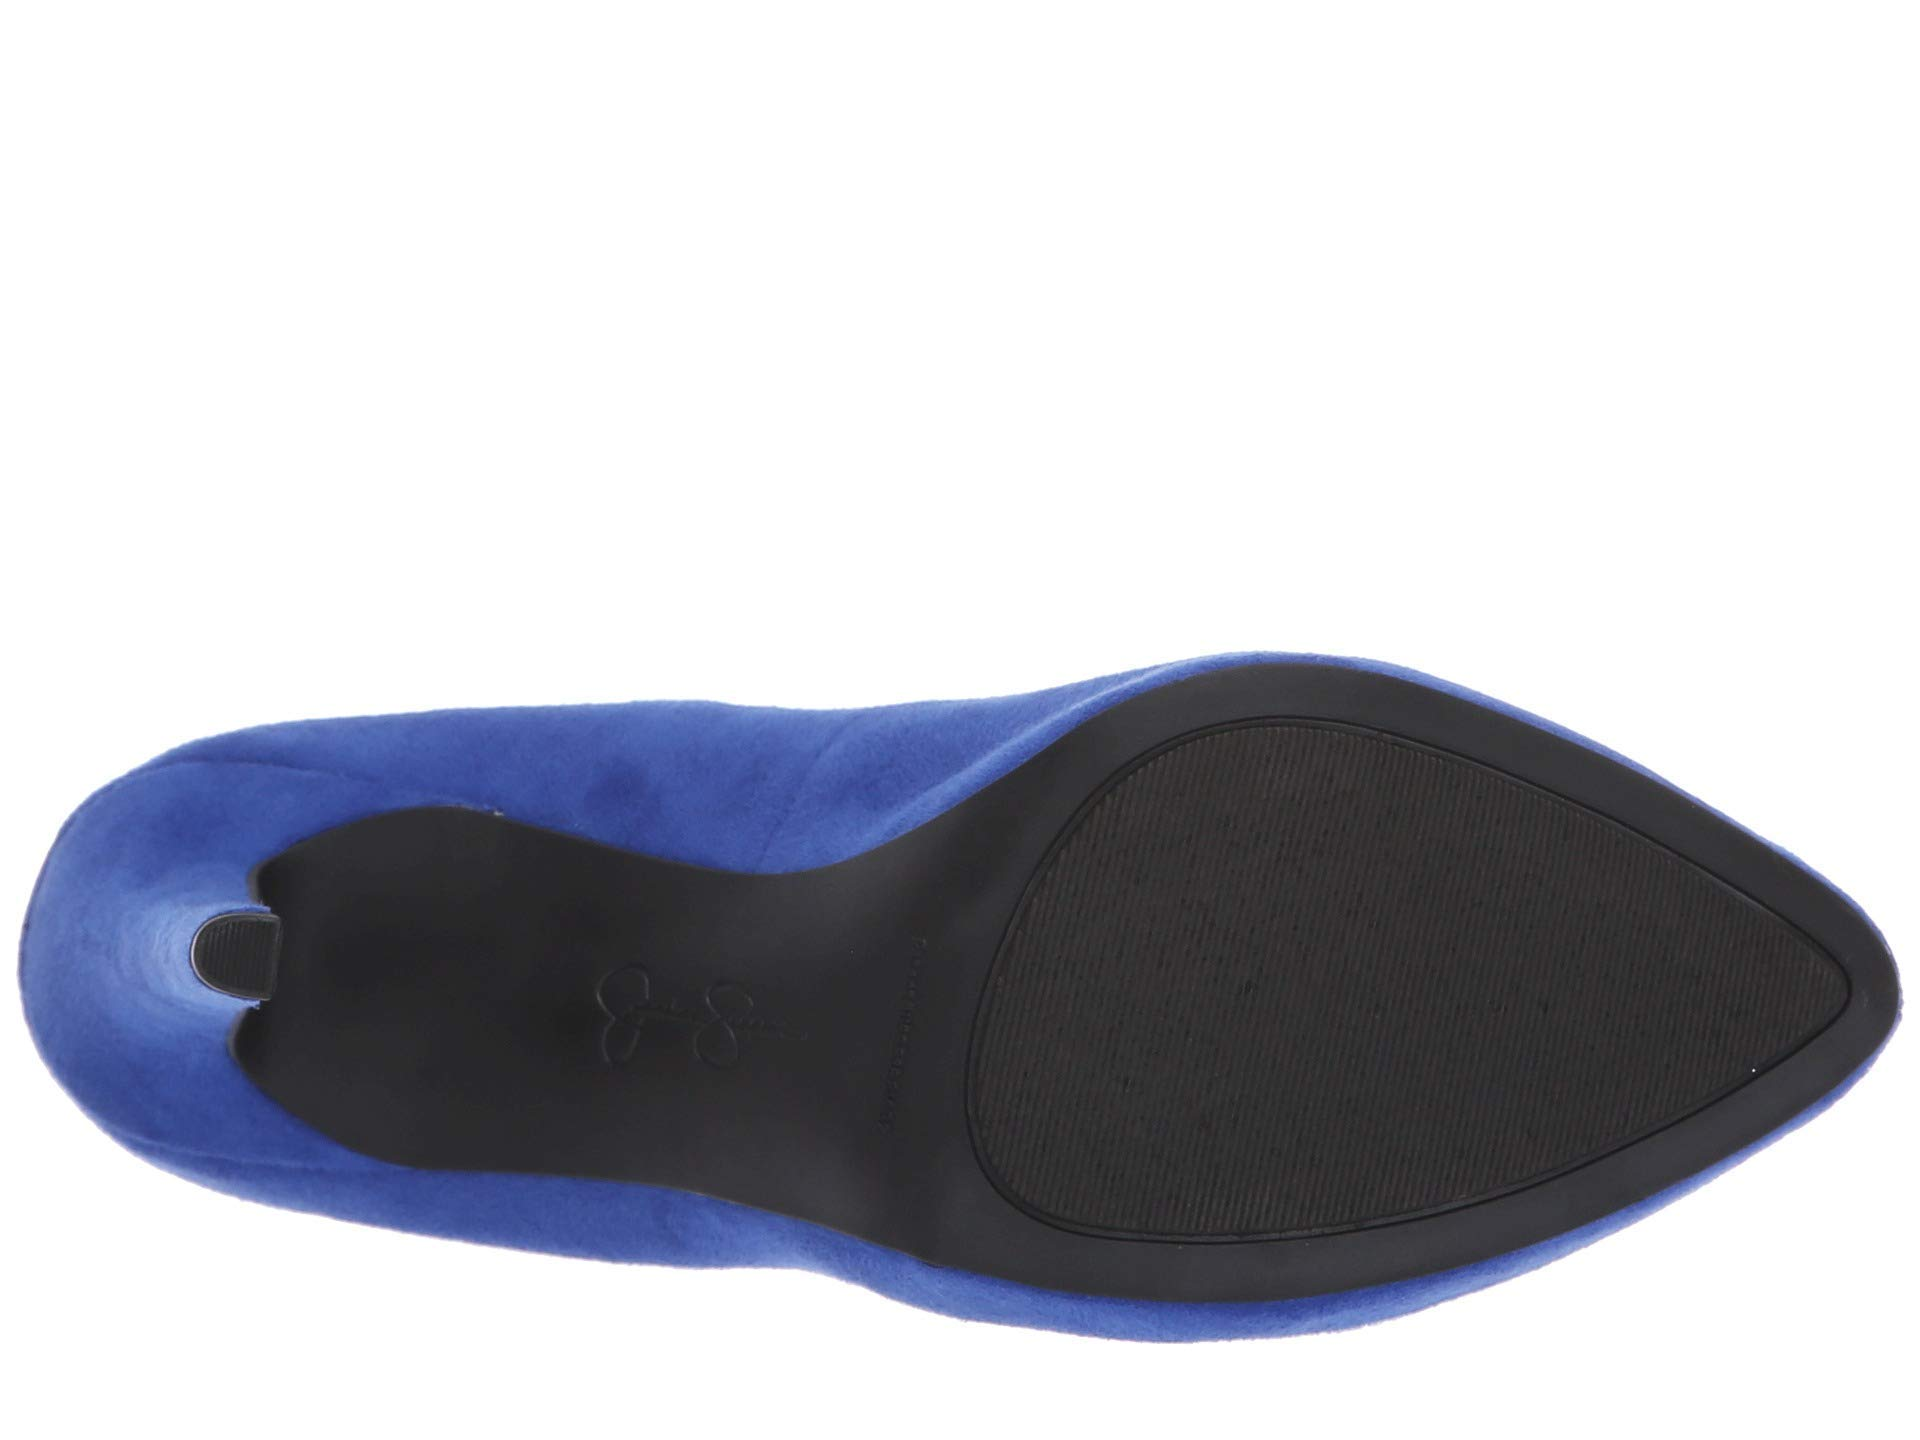line: (1020, 765, 1459, 1230), (1479, 777, 1609, 1187), (1628, 856, 1790, 1116), (209, 924, 266, 989)
